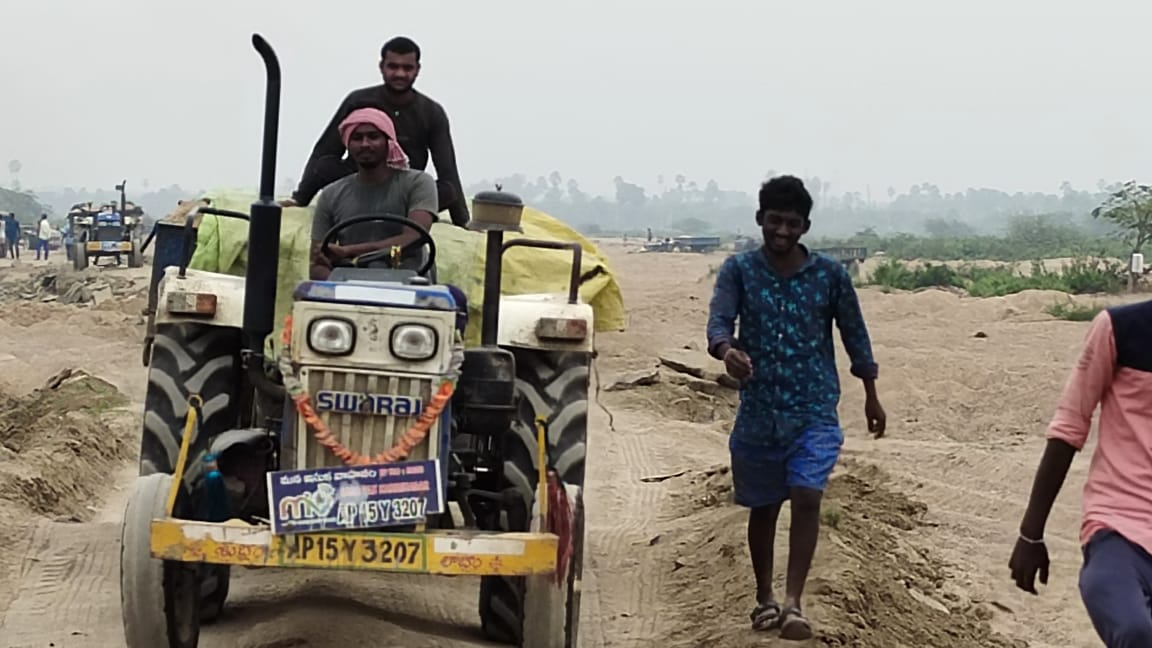license_plate: (280, 528, 427, 575)
